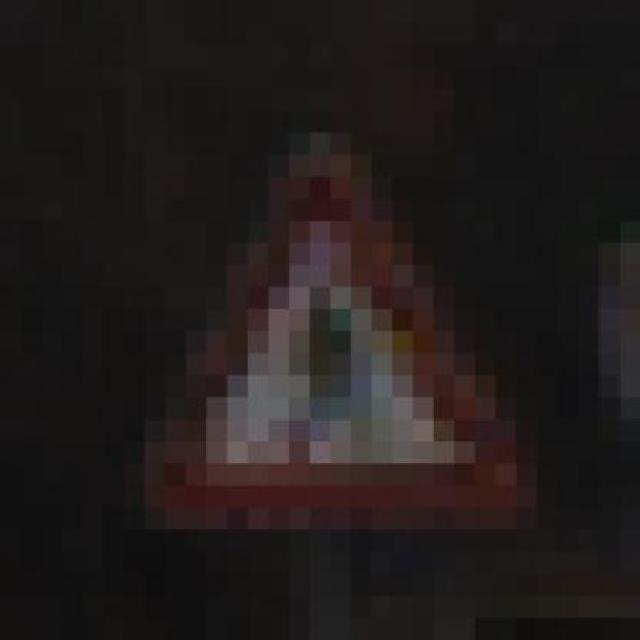Pedestrian Crossing: (124, 88, 558, 530)
